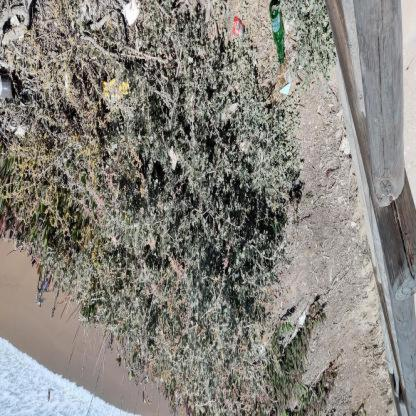Bottle cap: (269, 0, 284, 64), (0, 74, 15, 100)
Cigarette: (317, 105, 321, 113)
Plastic bag - wrapper: (102, 78, 131, 104), (221, 99, 239, 121)
Unlabeled litter: (120, 1, 141, 26), (233, 15, 245, 37), (6, 125, 25, 138), (341, 135, 351, 154), (169, 147, 177, 170), (279, 82, 290, 94), (298, 310, 306, 326), (284, 68, 292, 84), (65, 70, 69, 97)
